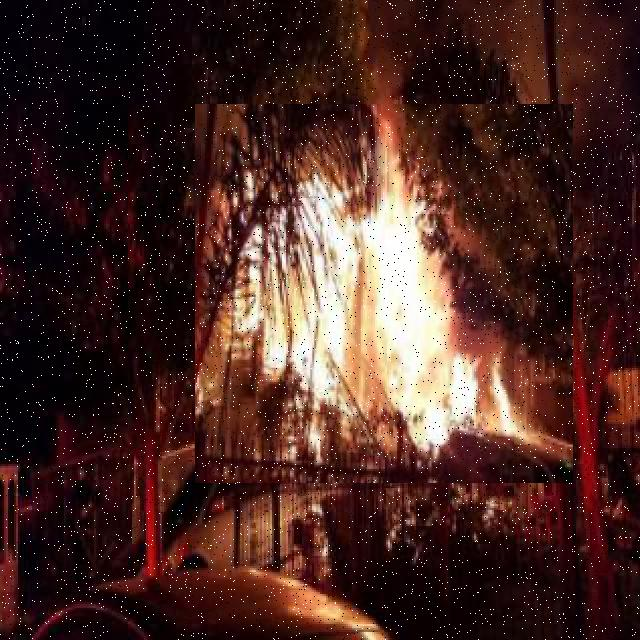fire: (195, 104, 573, 483)
